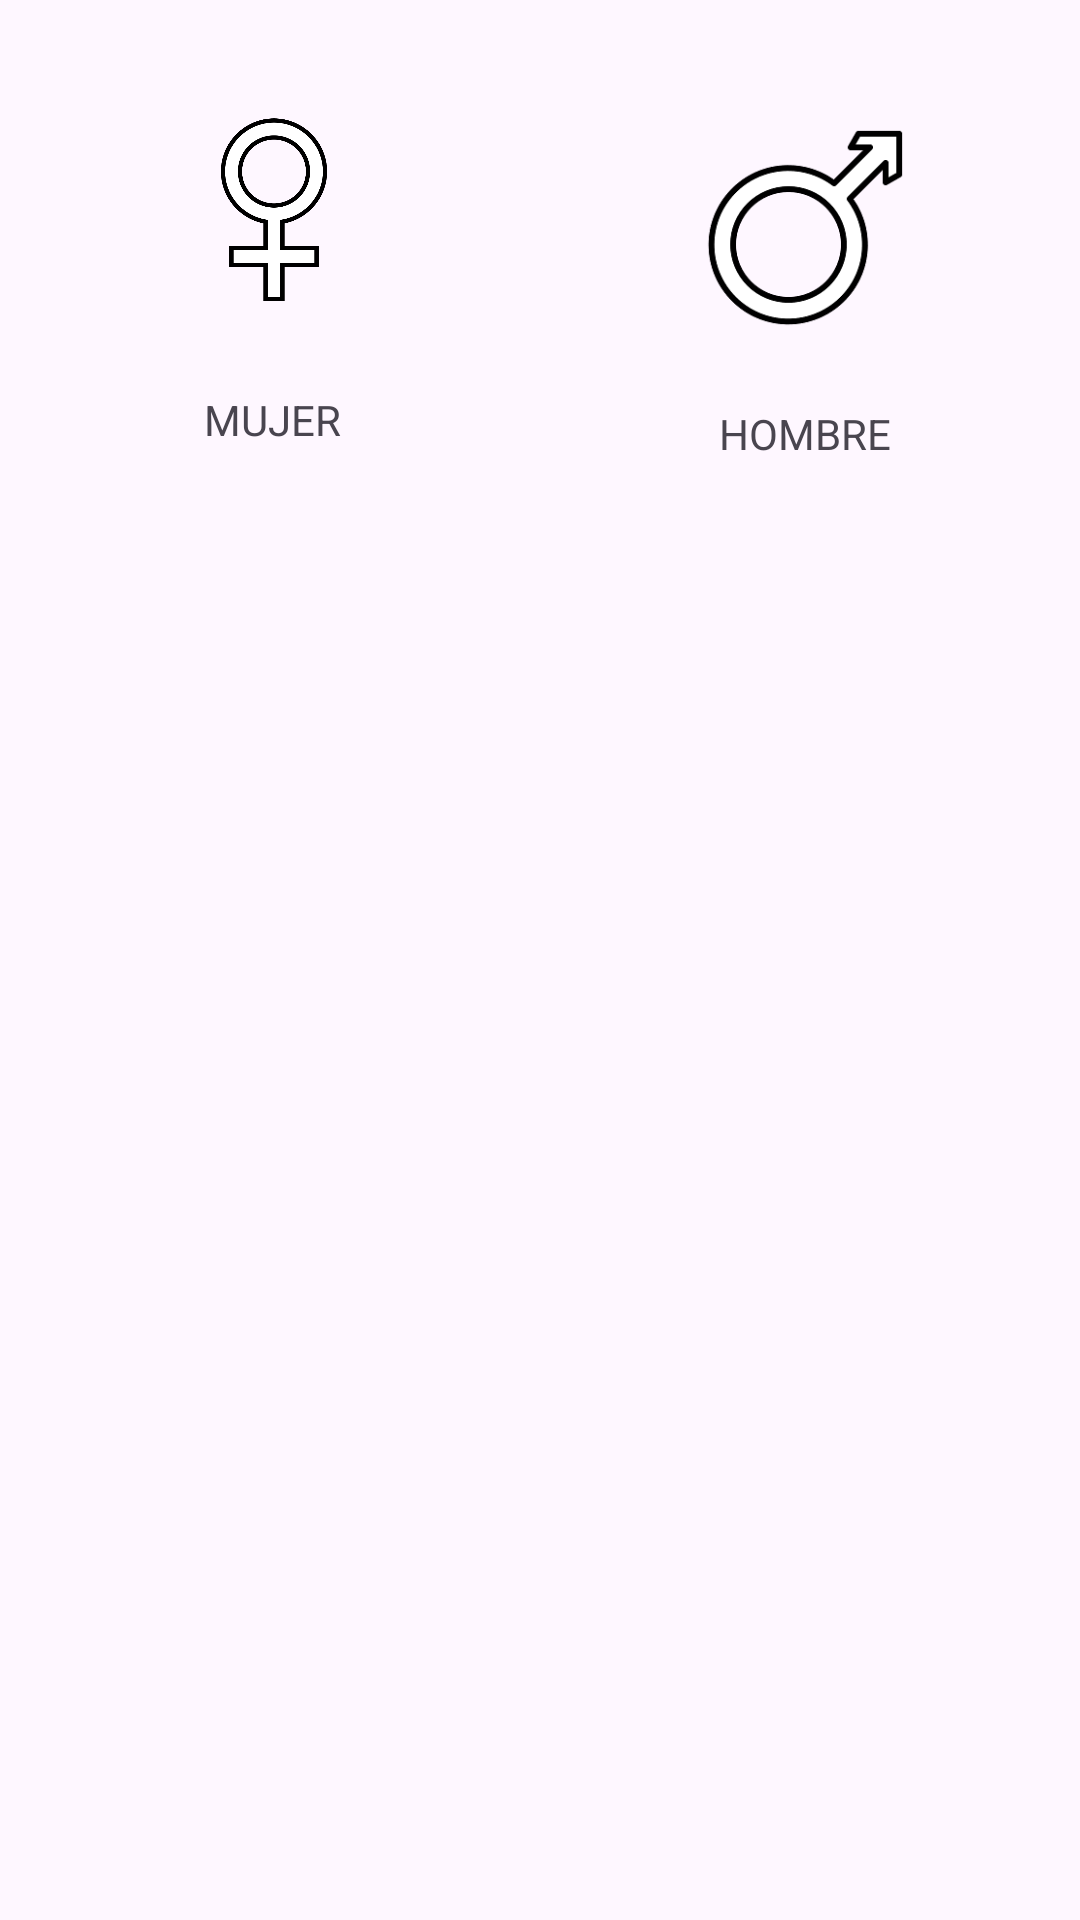

Where icons sit on this 1080px×1920px app screen, as (x1=x1, y1=y1, x2=x2, y2=y2):
female: (x1=221, y1=118, x2=327, y2=301)
male: (x1=708, y1=130, x2=903, y2=325)
